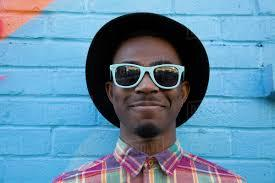cap: (77, 5, 226, 142)
sunglasses: (109, 60, 186, 96)
